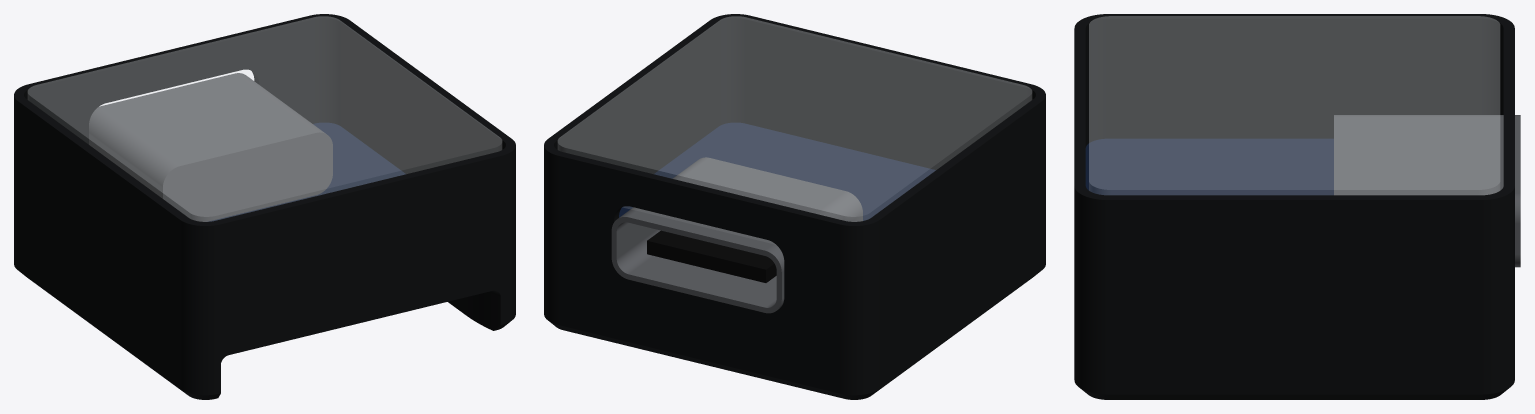
Rendered from usb-c.glb.
3 renders of one model, left to right at view 1: azimuth 30°, elevation 25°; view 2: azimuth 150°, elevation 25°; view 3: azimuth 270°, elevation 25°, orthographic. The views are drawn at different scales.
Parts seen in each view (by area): view 1: black, glass, grey, pcb; view 2: black, glass, grey, pcb, gloss; view 3: black, glass, grey, pcb.
Part boxes in pixels (x1=…): black: x1=14, y1=14, x2=515, y2=399; glass: x1=28, y1=16, x2=501, y2=221; grey: x1=89, y1=73, x2=332, y2=221; pcb: x1=207, y1=122, x2=405, y2=221; black: x1=544, y1=14, x2=1045, y2=399; glass: x1=558, y1=16, x2=1031, y2=244; grey: x1=611, y1=157, x2=862, y2=313; pcb: x1=619, y1=122, x2=935, y2=220; gloss: x1=647, y1=230, x2=776, y2=282; black: x1=1074, y1=14, x2=1514, y2=399; glass: x1=1089, y1=16, x2=1499, y2=194; grey: x1=1334, y1=115, x2=1520, y2=267; pcb: x1=1085, y1=138, x2=1333, y2=195.
Size of the model in its own units: 0.0195 by 0.0102 by 0.0198.
